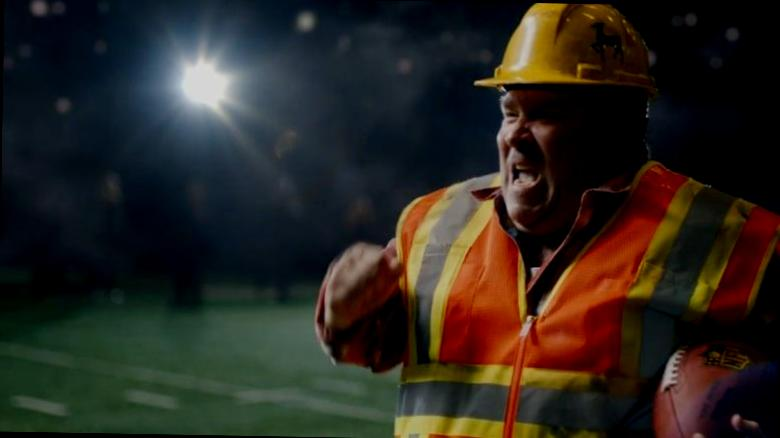helmet: (467, 2, 667, 100)
person: (319, 0, 780, 438)
